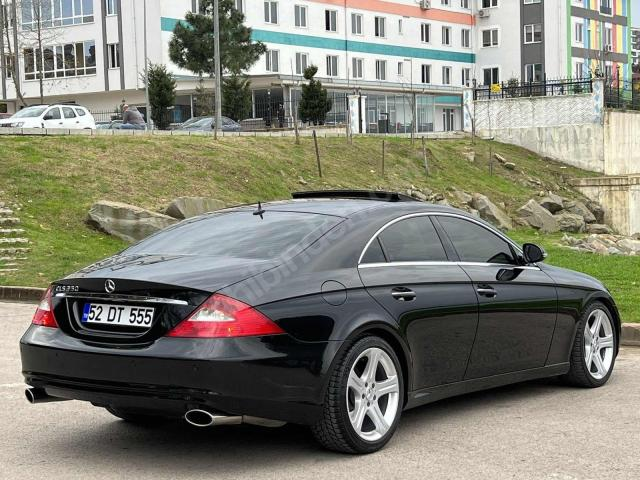plaka: (82, 303, 155, 328)
